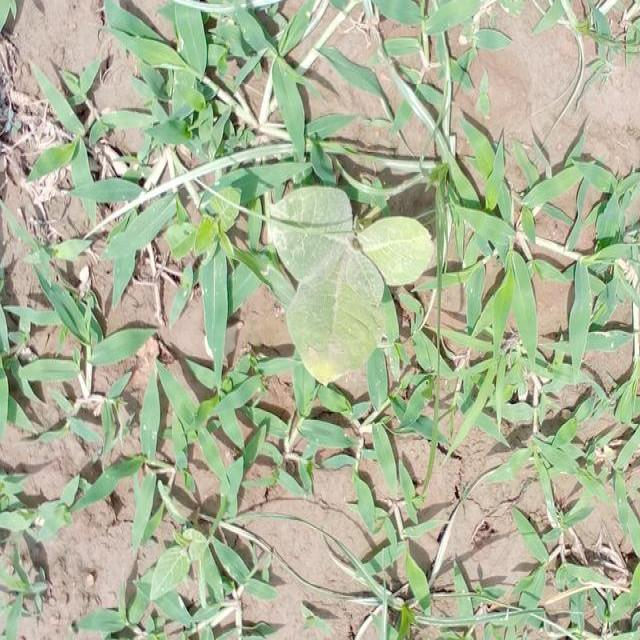crop: (266, 177, 441, 386)
